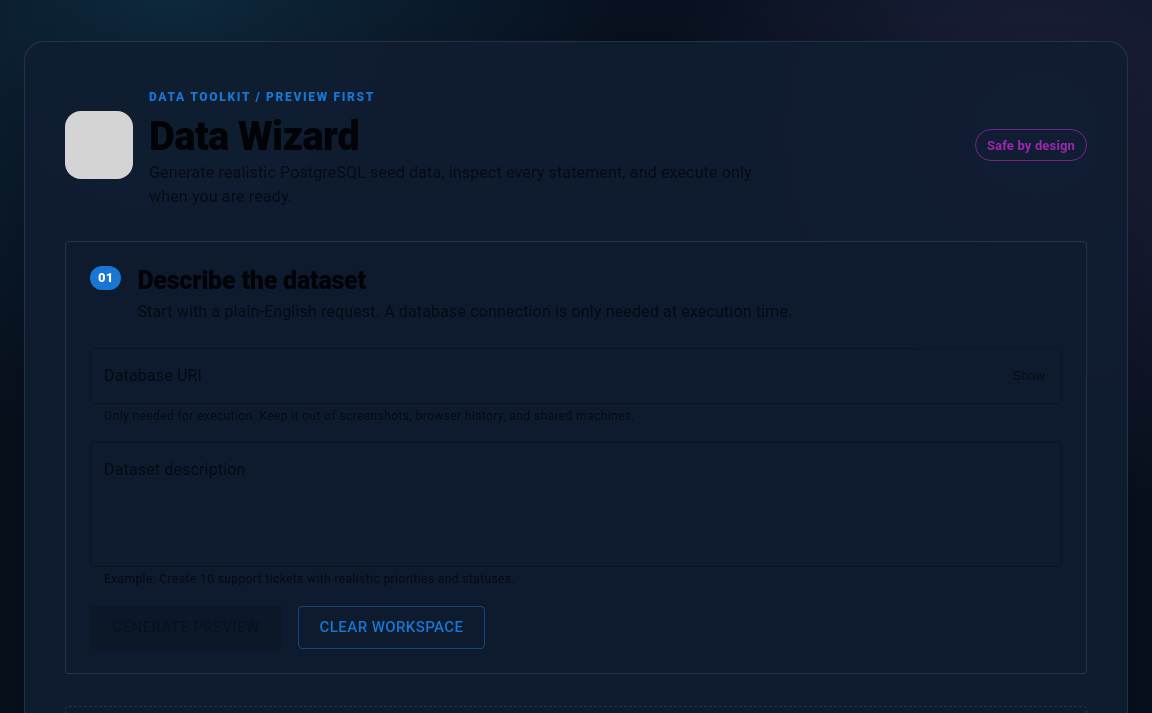
Test: DataRequest › displays an API error response
This screenshot has width=1152, height=713.
Type "postgres://localhost/test" into the password field named "PostgreSQL connection URI" at coordinates (544, 376), box [90,348,998,404]
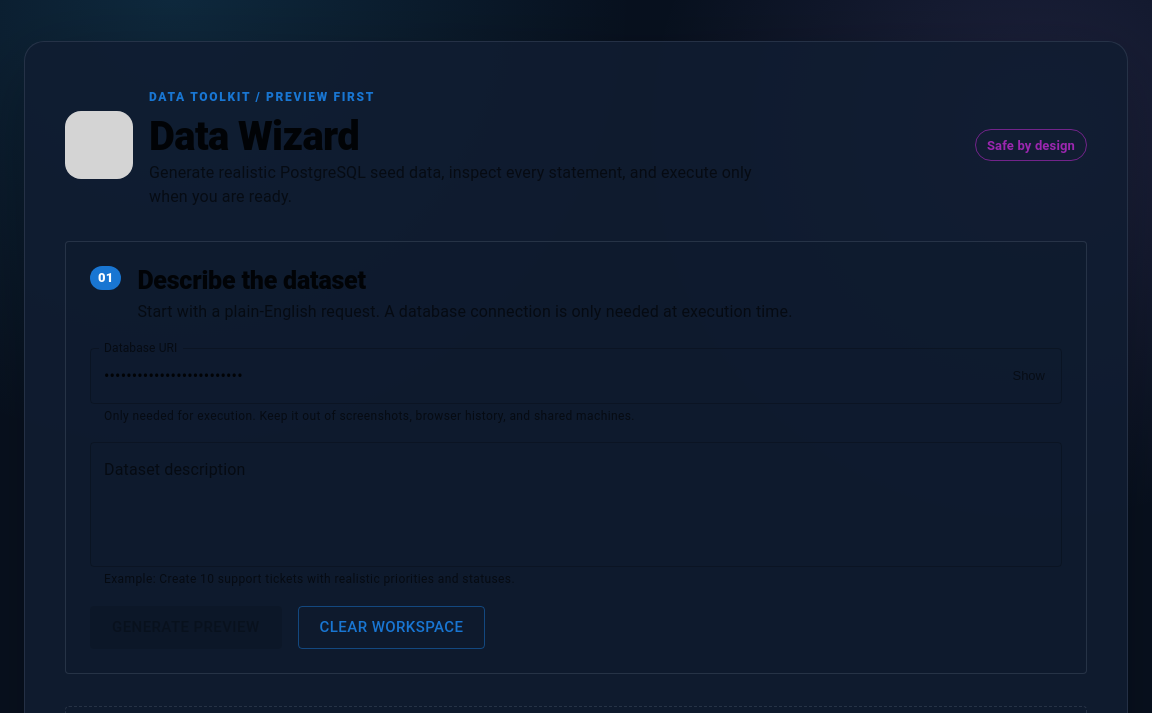
Type "Create one row" into the text box labelled "Dataset description" at coordinates (576, 505), box [104,459,1048,551]
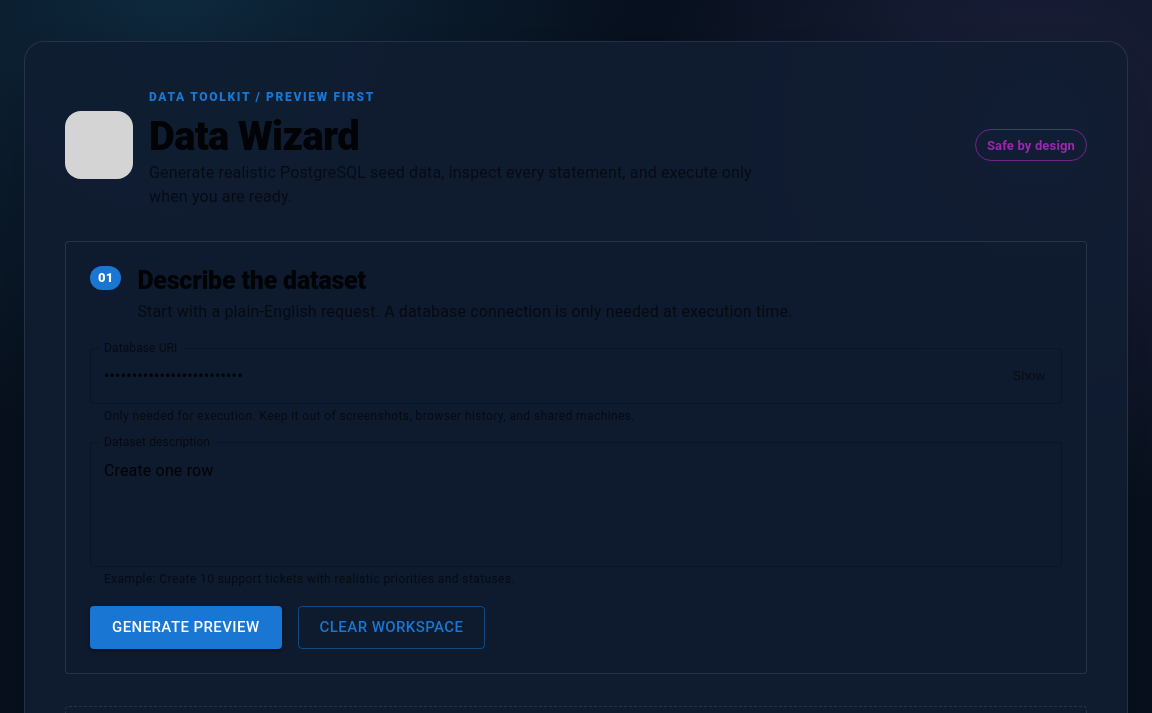
Click the button "Generate preview" at coordinates (186, 628), box [90,606,282,649]
(page scrolled)
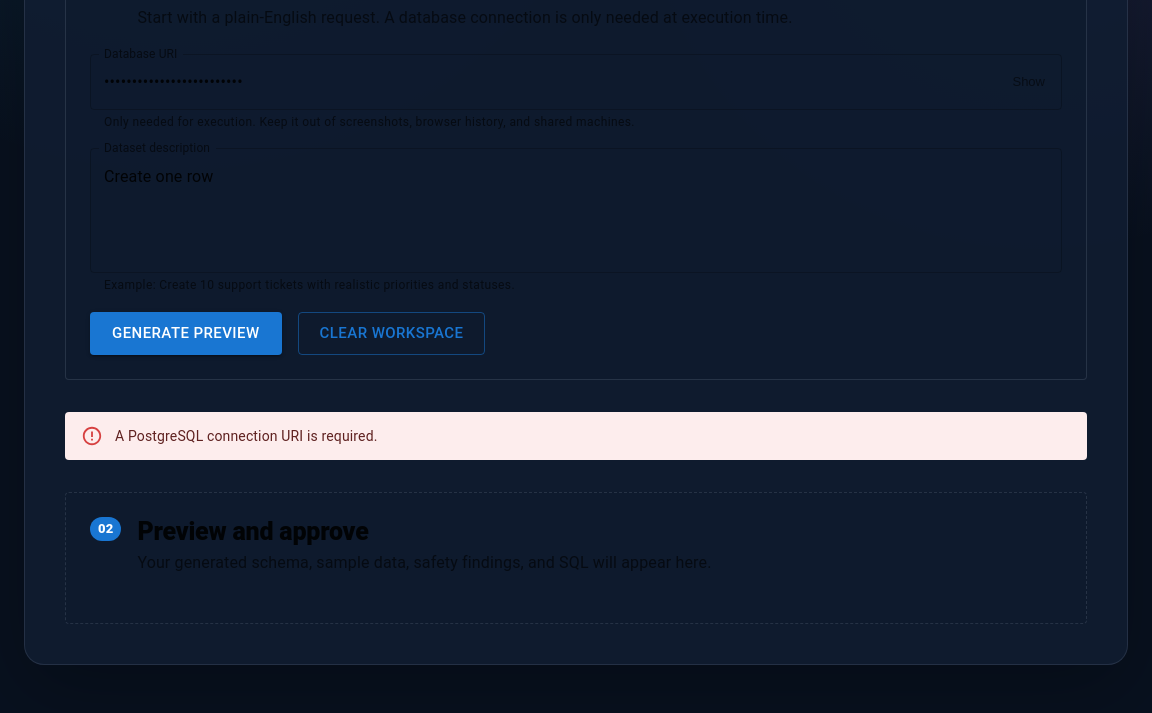
Expected: the text "A PostgreSQL connection URI is required." is shown, [115,428,378,444]
